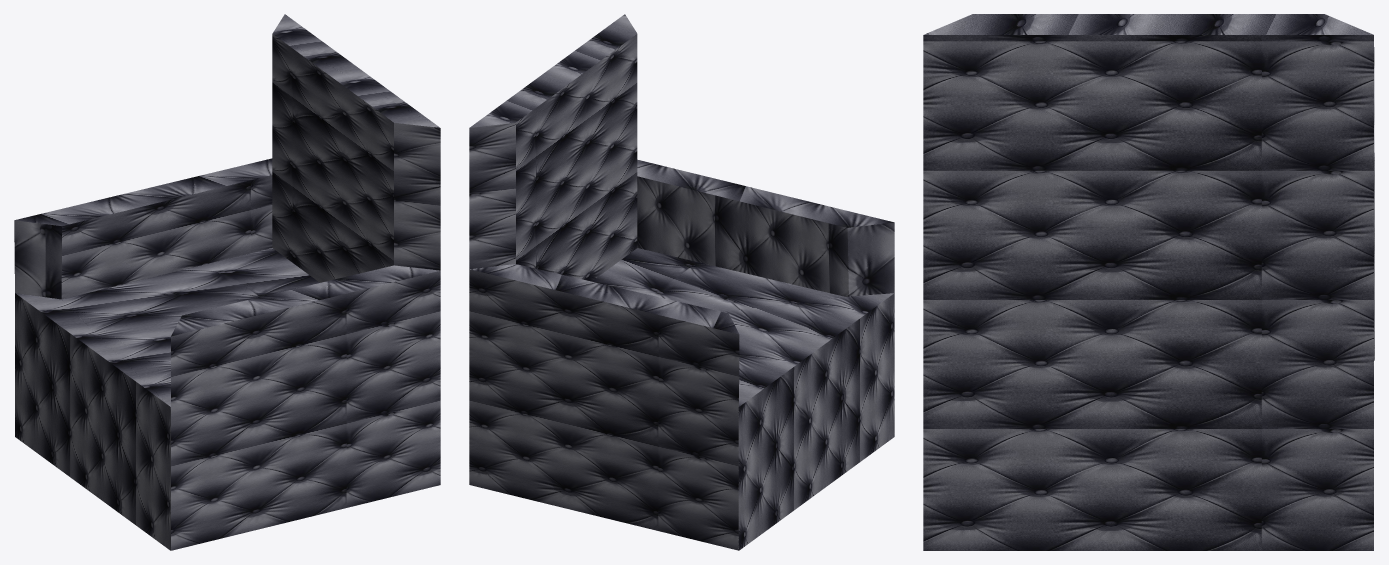
The model's file is couch.fbx.
The picture shows the model from 3 angles, left to right: view 1: azimuth 30°, elevation 25°; view 2: azimuth 150°, elevation 25°; view 3: azimuth 270°, elevation 25°; orthographic projection. The views are drawn at different scales.
Parts seen in each view (by area): view 1: Cube; view 2: Cube; view 3: Cube.
Boxes of the visible parts, x1,y1,x2,y2 form: Cube: (14,14,440,550); Cube: (469,14,894,550); Cube: (923,14,1374,550).
Bounding box in the file's own units: 200 × 253 × 200.
